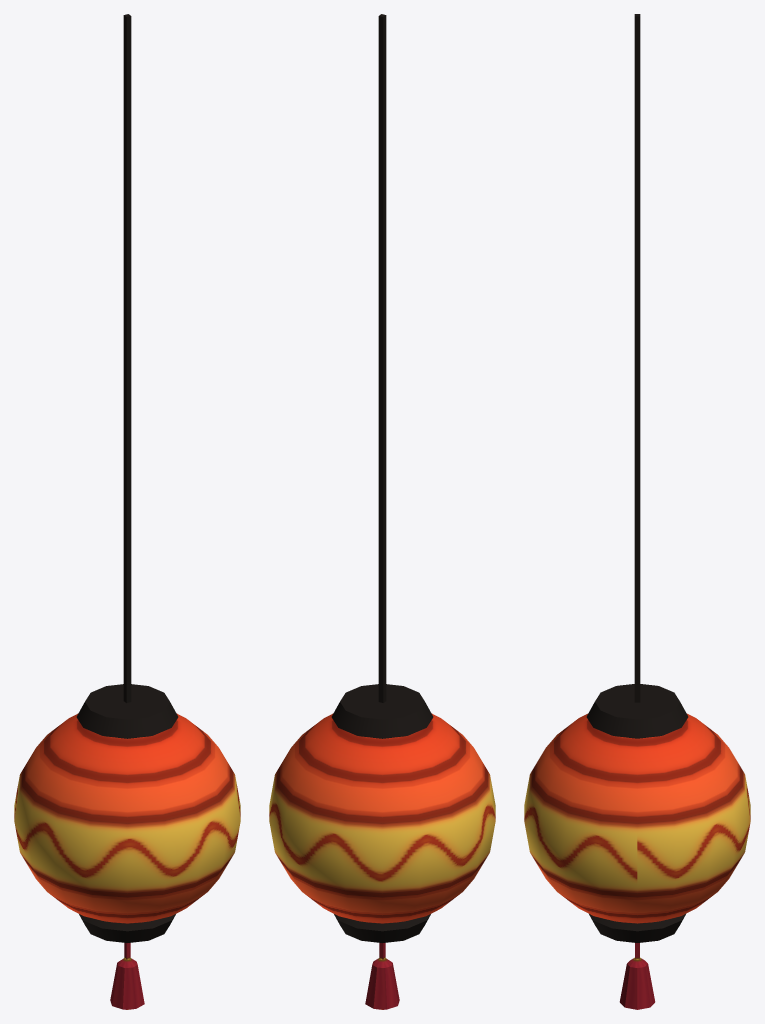
Rendered from Lamp_Paper.fbx.
The picture shows the model from 3 angles, left to right: view 1: azimuth 30°, elevation 25°; view 2: azimuth 150°, elevation 25°; view 3: azimuth 270°, elevation 25°; orthographic projection.
Visible parts, largest first — view 1: Lamp_Paper; view 2: Lamp_Paper; view 3: Lamp_Paper.
Boxes of the visible parts, x1,y1,x2,y2 form: Lamp_Paper: (14, 14, 240, 1009); Lamp_Paper: (269, 14, 495, 1009); Lamp_Paper: (524, 14, 750, 1009).
Size of the model in its own units: 0.54 by 2.58 by 0.5318.
2 materials, 2 textured.
